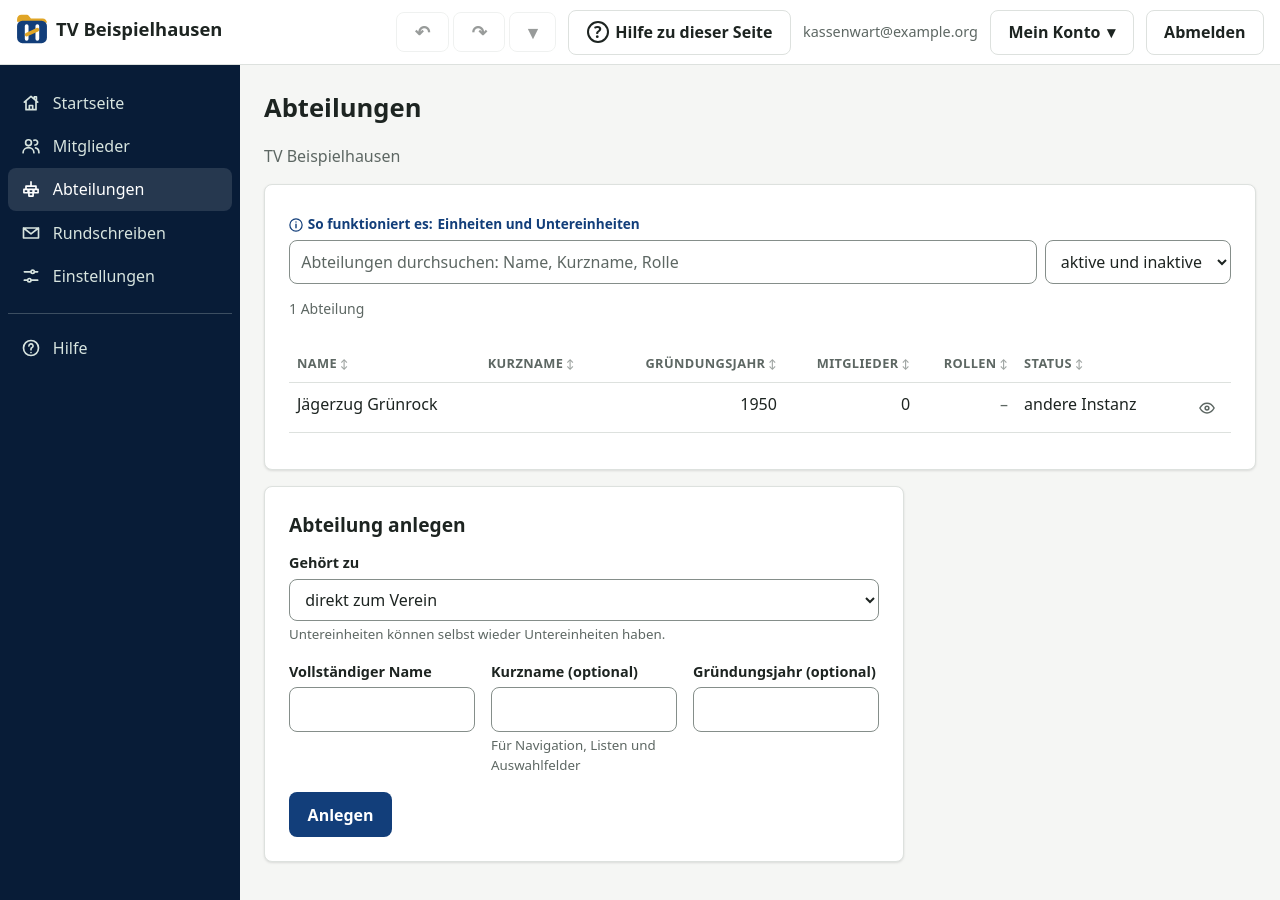
it: Ferne Untereinheit (Verbund) › ist nur zu sehen, nicht zu bearbeiten oder zu löschen
The width and height of the screenshot is (1280, 900).
Click the button named "Jägerzug Grünrock anzeigen". click: (1207, 408)
box: [1191,392,1223,424]
(page scrolled)
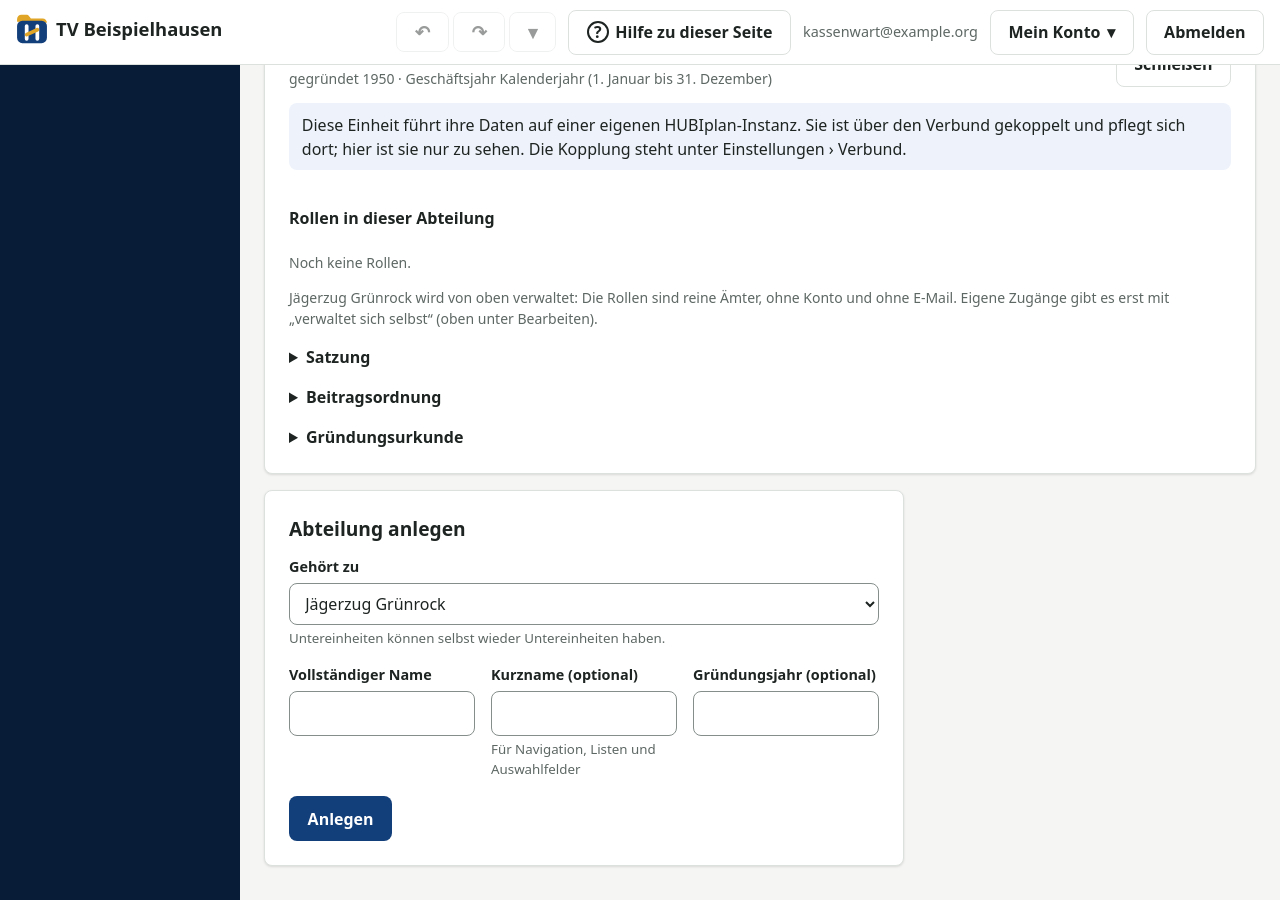
expect the text "eigenen HUBIplan-Instanz" is shown: met, box [302,114,1186,160]
